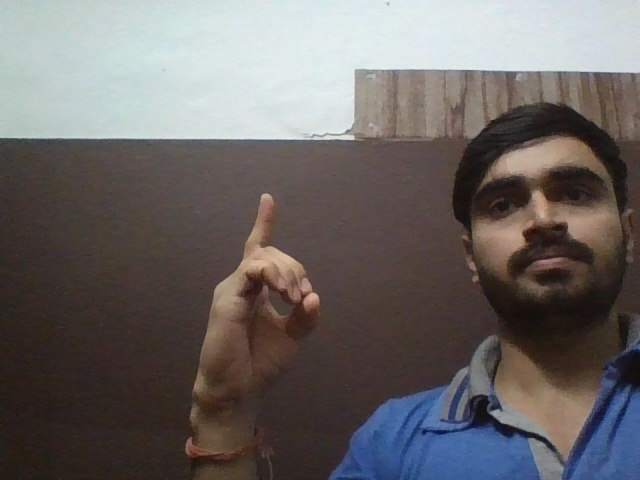D: (190, 185, 342, 393)
